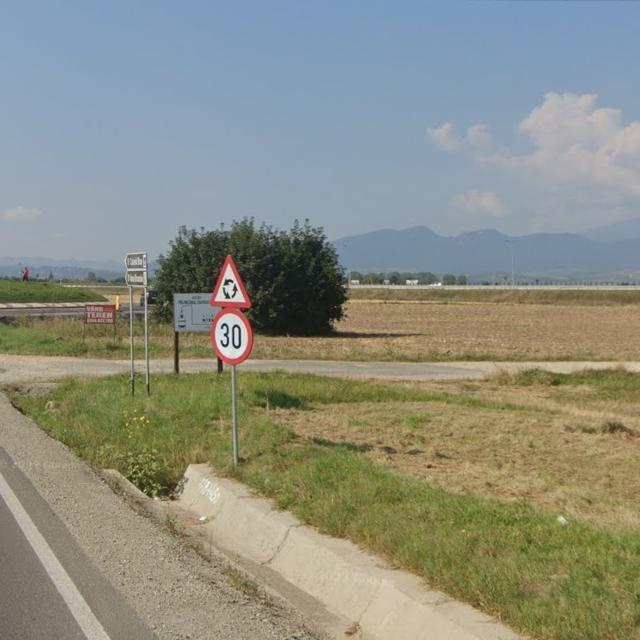forb_speed_over_30: (210, 311, 253, 367)
